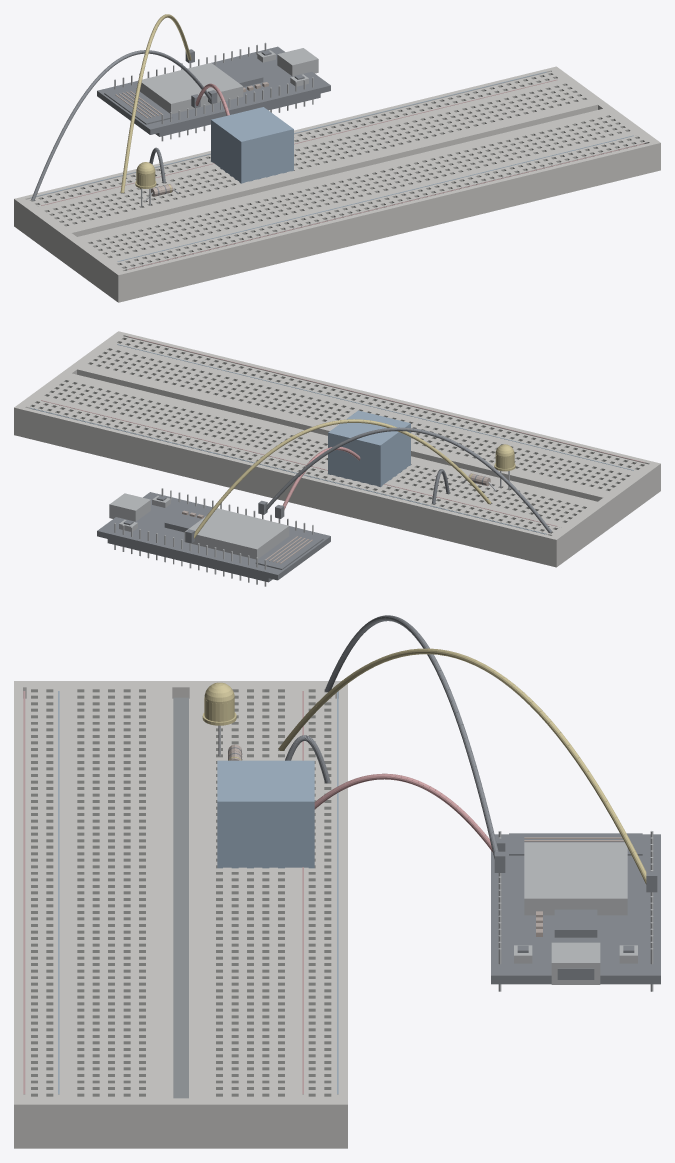
File: step-7.glb
3 renders of one model, top to bottom at view 1: azimuth 30°, elevation 25°; view 2: azimuth 150°, elevation 25°; view 3: azimuth 270°, elevation 25°, orthographic. The views are drawn at different scales.
Parts seen in each view (by area): view 1: bb1__mesh, uno__mesh, pot1__mesh, w_gnd_rail__mesh, w_led_sig__mesh, led_yellow__mesh; view 2: bb1__mesh, uno__mesh, pot1__mesh, w_led_sig__mesh, w_gnd_rail__mesh, led_yellow__mesh, w_pot_5v__mesh; view 3: bb1__mesh, uno__mesh, pot1__mesh, w_led_sig__mesh, w_gnd_rail__mesh, w_pot_5v__mesh, led_yellow__mesh.
Part boxes in pixels (box(x1,y1,x2,y2)): bb1__mesh: box(14, 66, 660, 302); uno__mesh: box(97, 42, 330, 141); pot1__mesh: box(211, 107, 293, 183); w_gnd_rail__mesh: box(31, 50, 217, 200); w_led_sig__mesh: box(120, 14, 194, 192); led_yellow__mesh: box(135, 162, 156, 207); bb1__mesh: box(14, 331, 660, 567); uno__mesh: box(97, 488, 330, 586); pot1__mesh: box(328, 410, 410, 487); w_led_sig__mesh: box(185, 419, 491, 543); w_gnd_rail__mesh: box(258, 427, 551, 532); led_yellow__mesh: box(494, 444, 515, 489); w_pot_5v__mesh: box(275, 447, 360, 518); bb1__mesh: box(14, 681, 347, 1148); uno__mesh: box(491, 831, 660, 991); pot1__mesh: box(217, 760, 314, 868); w_led_sig__mesh: box(278, 648, 657, 892); w_gnd_rail__mesh: box(325, 615, 505, 872); w_pot_5v__mesh: box(314, 773, 505, 852); led_yellow__mesh: box(202, 682, 236, 756).
Bounding box in the file's own units: 0.165 × 0.0379 × 0.1065.
